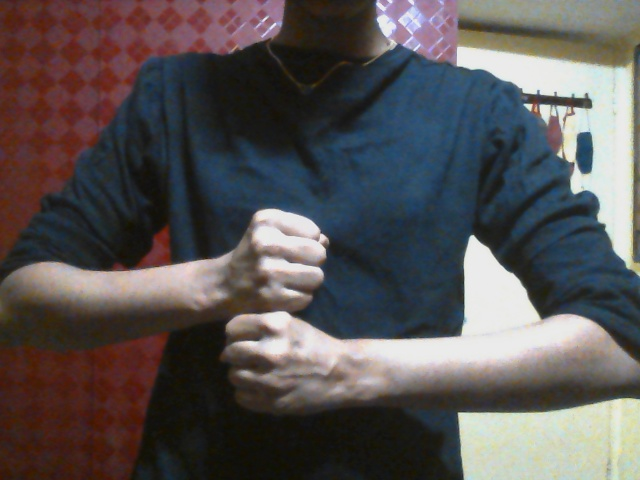G: (216, 206, 351, 419)
